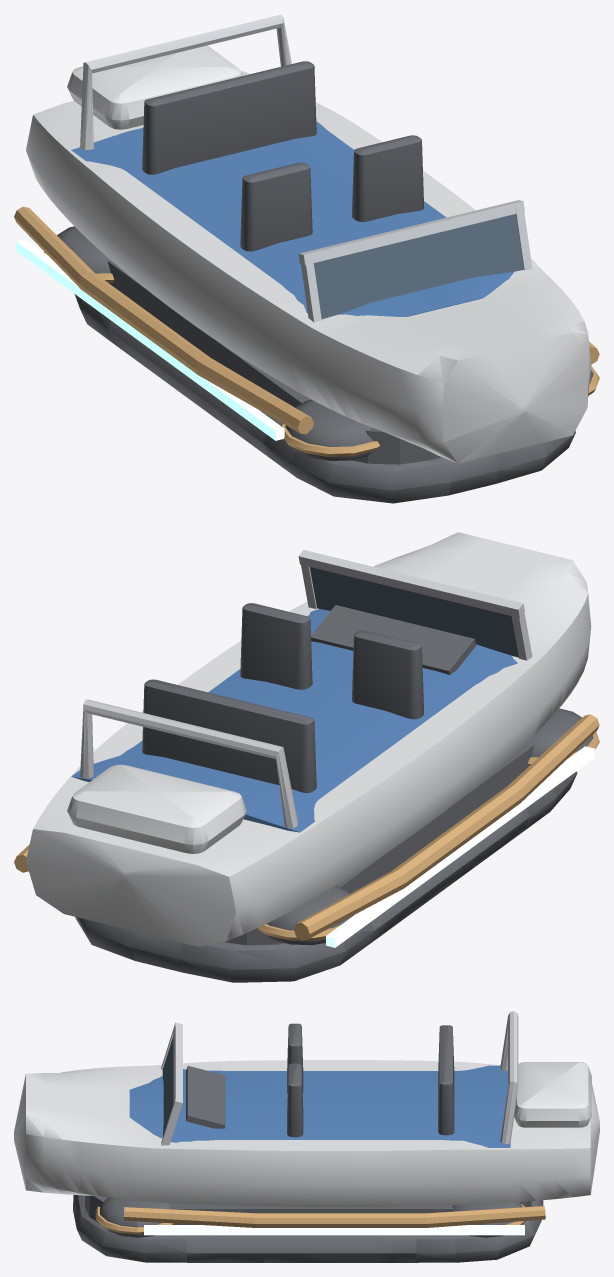
Rendered from hover-transit-and-antigrav-fleet-open-touring-skiff-aab53805__17073.glb.
3 renders of one model, top to bottom at view 1: azimuth 30°, elevation 25°; view 2: azimuth 150°, elevation 25°; view 3: azimuth 270°, elevation 25°, orthographic. The views are drawn at different scales.
Parts seen in each view (by area): view 1: open-touring-skiff; view 2: open-touring-skiff; view 3: open-touring-skiff.
Part boxes in pixels (bbox=[...]): open-touring-skiff: bbox=[14, 14, 599, 503]; open-touring-skiff: bbox=[14, 532, 599, 982]; open-touring-skiff: bbox=[14, 1011, 599, 1262].
Bounding box in the file's own units: 2.12 × 1.48 × 4.46.
